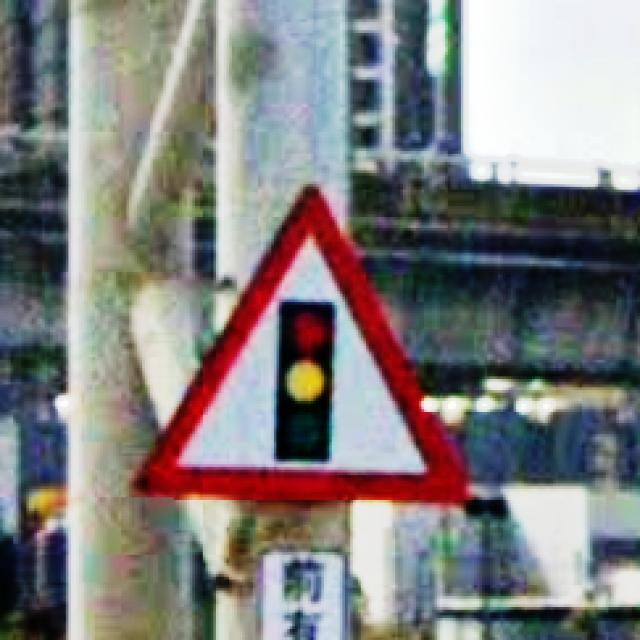signalahead: (129, 179, 474, 508)
